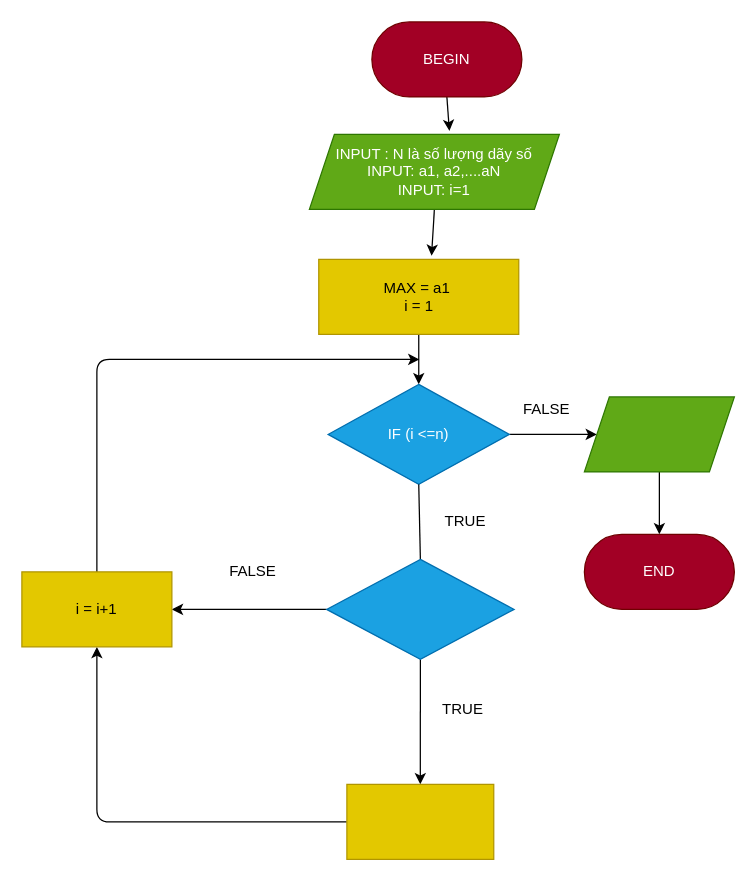
This 756x881 diagram has some shape labels left out. The shapes that lost their labels are listed below. From the top down, each one's box as (x1, y1, x2, y2) in pixels, then its label:
(583, 396, 734, 472): Display: MAX
(325, 558, 514, 659): IF (max < ai)
(346, 783, 494, 859): MAX = ai
